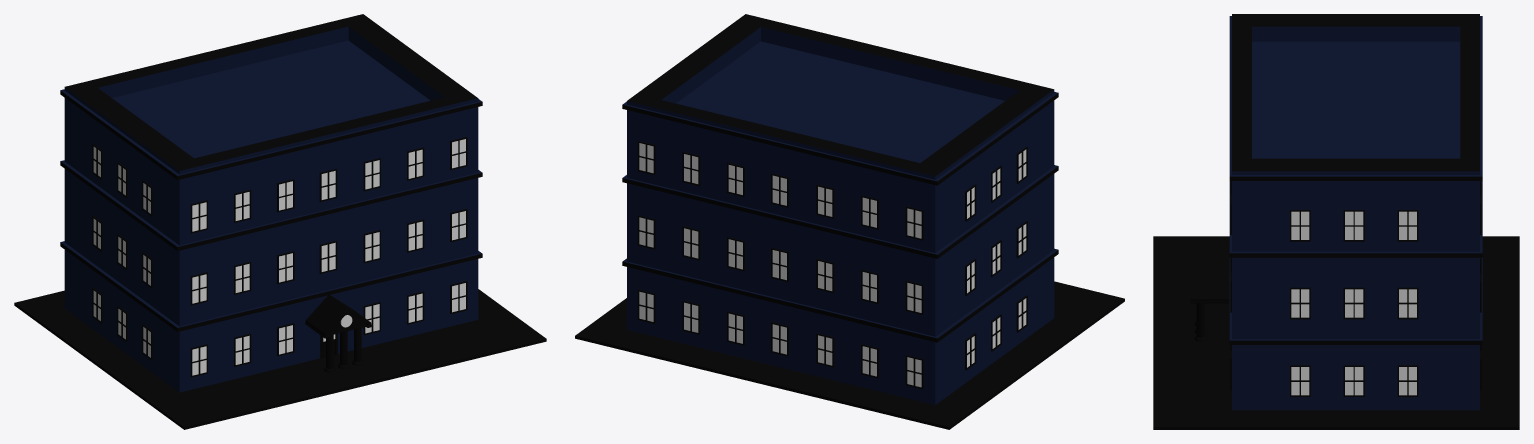
File: gedung 1.fbx
3 renders of one model, left to right at view 1: azimuth 30°, elevation 25°; view 2: azimuth 150°, elevation 25°; view 3: azimuth 270°, elevation 25°, orthographic. The views are drawn at different scales.
Visible parts, largest first — view 1: Plane, Plane.006, Plane.001, Plane.004, Cube.001; view 2: Plane, Plane.006, Plane.003, Plane.004; view 3: Plane, Plane.006, Plane.005, Cube.001, Cylinder.002.
Boxes of the visible parts, left/top/right/bottom form: Plane: left=60, top=14, right=482, bottom=392; Plane.006: left=14, top=289, right=546, bottom=429; Plane.001: left=190, top=137, right=467, bottom=377; Plane.004: left=92, top=144, right=152, bottom=360; Cube.001: left=305, top=295, right=372, bottom=338; Plane: left=622, top=14, right=1058, bottom=404; Plane.006: left=575, top=281, right=1124, bottom=429; Plane.003: left=637, top=141, right=923, bottom=389; Plane.004: left=965, top=146, right=1027, bottom=370; Plane: left=1229, top=14, right=1482, bottom=410; Plane.006: left=1153, top=236, right=1519, bottom=429; Plane.005: left=1290, top=210, right=1418, bottom=396; Cube.001: left=1190, top=265, right=1229, bottom=303; Cylinder.002: left=1194, top=303, right=1206, bottom=341.
Bounding box in the file's own units: 5695 × 3371 × 4626.
